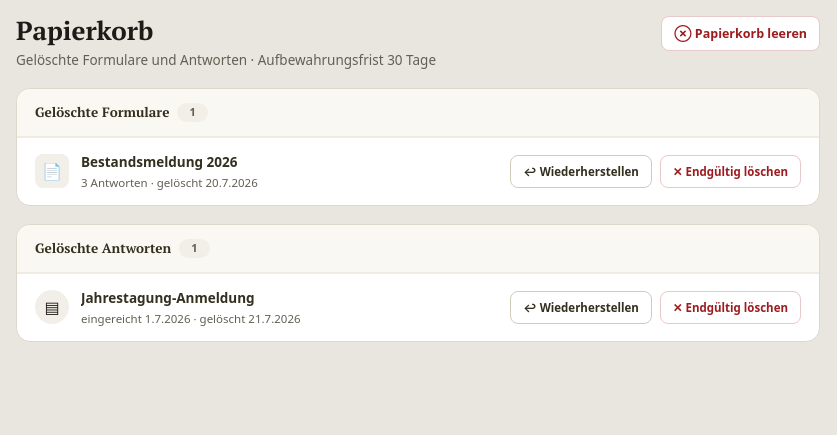
TrashView › mit canPurge › shows the server’s own 403 when endgültig löschen is refused
What coordinates should you click on to do the following:
click the button with test id "^trash-purge-"
I would click on:
 (730, 171)
Its box is left=660, top=155, right=801, bottom=188.
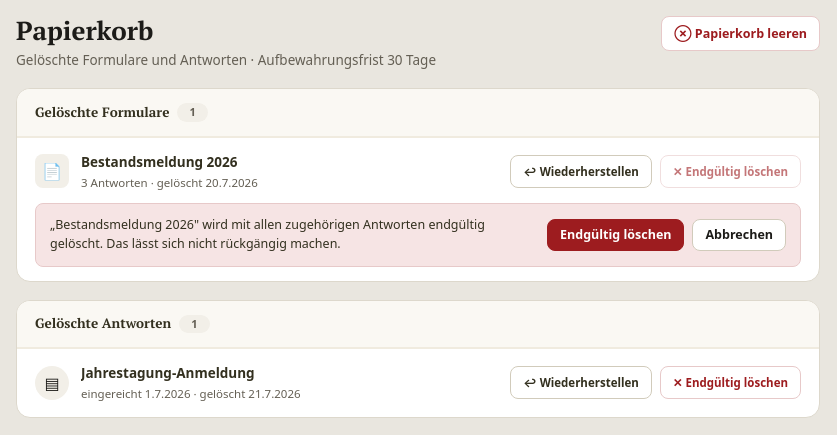
What coordinates should you click on to do the following:
click the button "Endgültig löschen"
I would click on:
 (616, 235)
Its box is left=547, top=218, right=684, bottom=251.
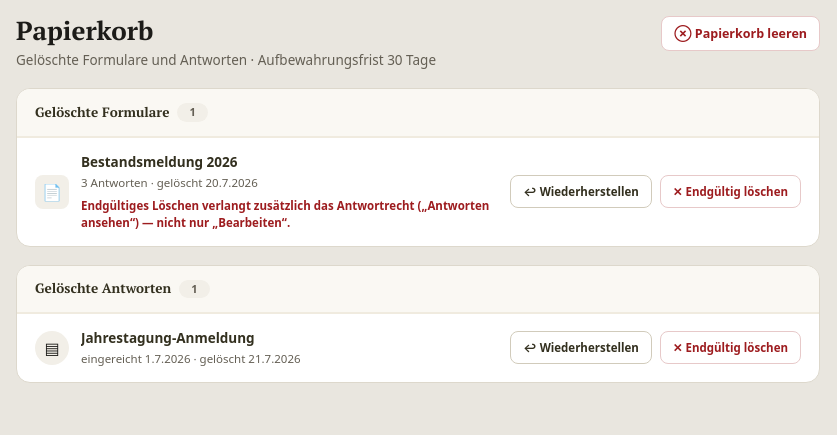
Check: the text "Bestandsmeldung 2026" is shown, box left=81, top=153, right=238, bottom=171
Check: the message shows "Antwortrecht", box left=81, top=198, right=489, bottom=230
